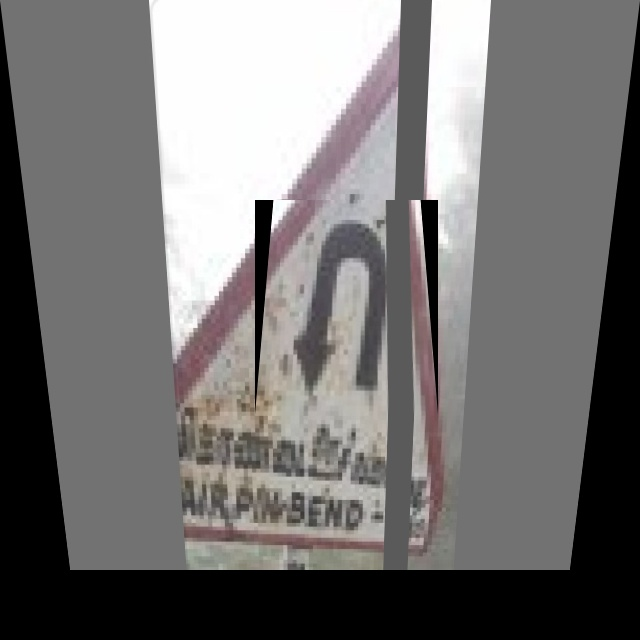Left_Hair_Pin_Bend: (255, 200, 438, 415)
